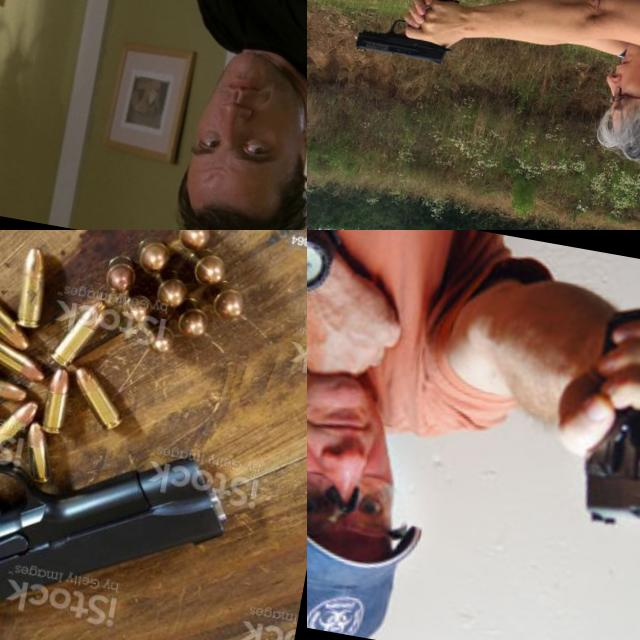handgun: (0, 366, 275, 640), (562, 296, 640, 550), (346, 0, 466, 70), (0, 0, 85, 60)
